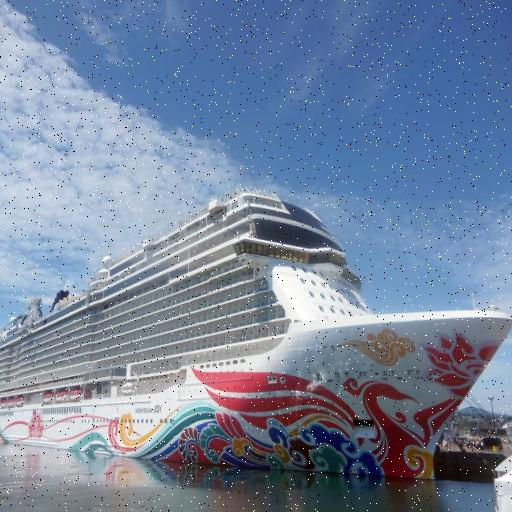cruises: (1, 183, 512, 489)
